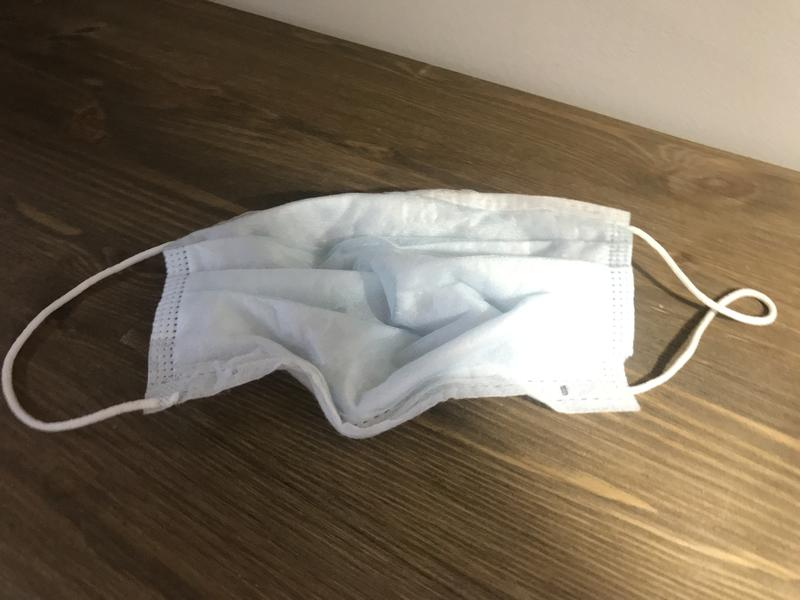medical_mask: (1, 188, 780, 418)
